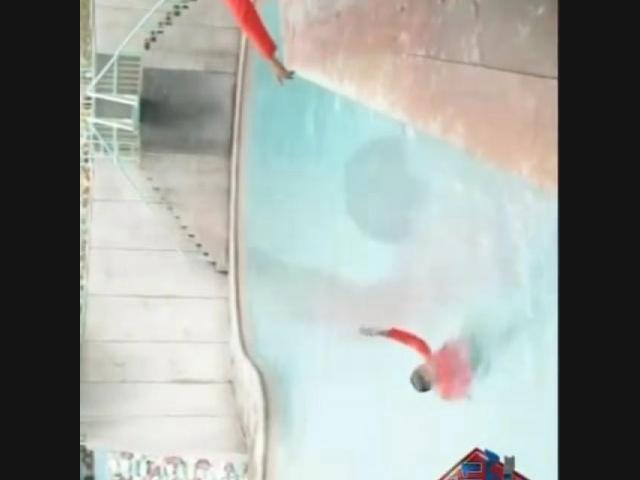drowning: (398, 318, 492, 413)
out of water: (126, 0, 484, 44)
